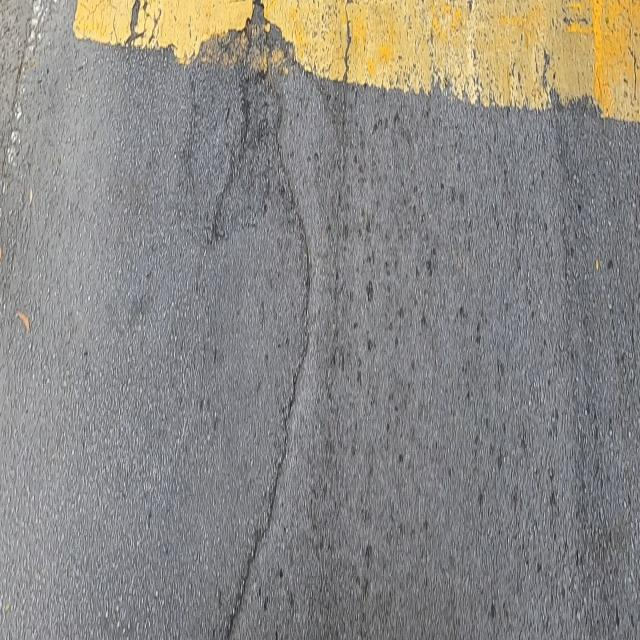Retak-Memanjang: (224, 92, 312, 640), (213, 23, 253, 240)
